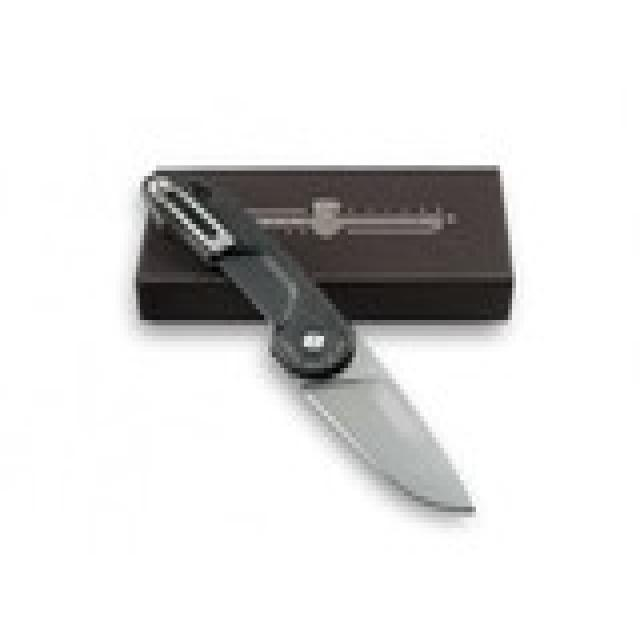Knife: (133, 158, 479, 518)
